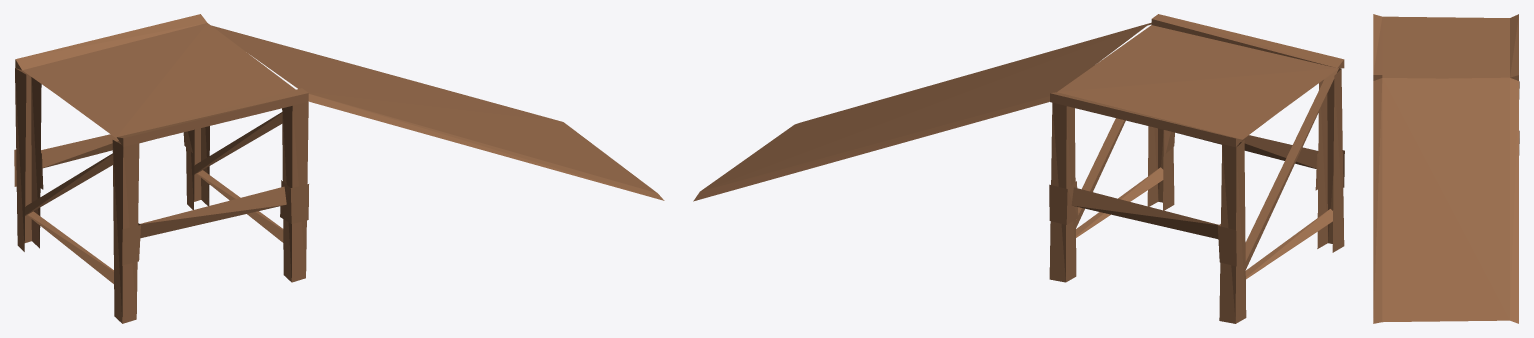
Rendered from ss-rack-ramp.lod2.glb.
The picture shows the model from 3 angles, left to right: view 1: azimuth 30°, elevation 25°; view 2: azimuth 150°, elevation 25°; view 3: azimuth 270°, elevation 25°; orthographic projection. The views are drawn at different scales.
Visible parts, largest first — view 1: PalletRacking_staircase_2_PalletRacking_staircase_2_0; view 2: PalletRacking_staircase_2_PalletRacking_staircase_2_0; view 3: PalletRacking_staircase_2_PalletRacking_staircase_2_0.
Part boxes in pixels (x1,y1,x2,y2): PalletRacking_staircase_2_PalletRacking_staircase_2_0: [14, 14, 664, 323]; PalletRacking_staircase_2_PalletRacking_staircase_2_0: [693, 14, 1344, 323]; PalletRacking_staircase_2_PalletRacking_staircase_2_0: [1373, 14, 1519, 323].
Size of the model in its own units: 6.4 by 2.2 by 2.22.
